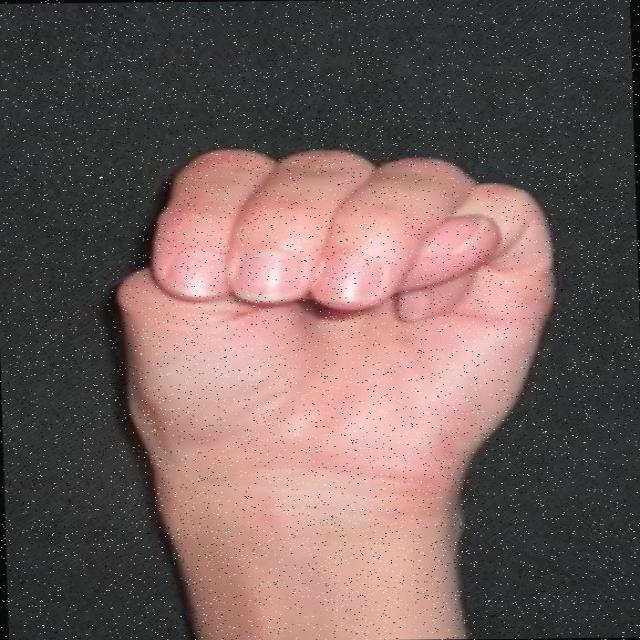M: (104, 140, 570, 497)
